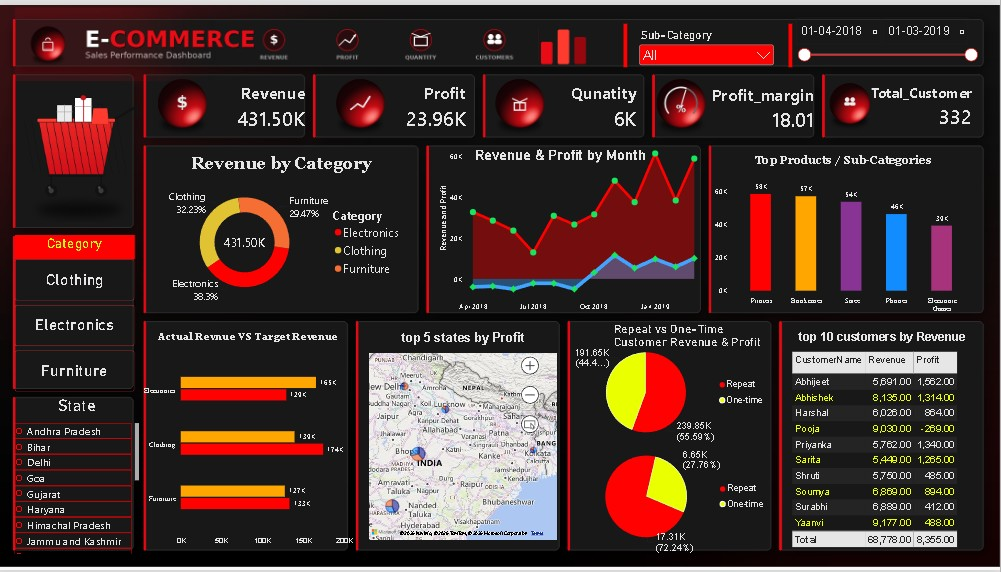

What the dashboard file says about the page in this screenshot:
{"tool":"powerbi","page":{"name":"E_Commerce","canvas":[1920,1080],"ordinal":0},"visuals":[{"type":"cardVisual","fields":{"Data":["_mesures.Revenue"]},"box":[303.7,136.3,304.6,117.3],"z":0},{"type":"pieChart","fields":{"Category":["e_commerce list_order.Customer Type"],"Y":["_measures.Revenue by Customer Type"]},"box":[1087.9,619.3,400.6,244.4],"z":0,"group":"g1"},{"type":"cardVisual","fields":{"Data":["_mesures.Profit"]},"box":[607.2,135.8,308.7,117.3],"z":1000},{"type":"pieChart","fields":{"Category":["e_commerce list_order.Customer Type"],"Y":["_measure.Profit by Customer Type"]},"box":[1088.3,815.9,401.3,250.5],"z":1000,"group":"g1"},{"type":"cardVisual","fields":{"Data":["_mesures.Qunatity"]},"box":[936.5,135.8,304.6,117.3],"z":2000},{"type":"textbox","title":"Repeat vs One-Time Customer Revenue & Profit","box":[1181.3,606.1,306.1,59.8],"z":2000,"group":"g1"},{"type":"cardVisual","fields":{"Data":["_mesures.Profit_margin"]},"box":[1259.7,140,321.1,113.2],"z":3000},{"type":"cardVisual","fields":{"Data":["_mesures.Total_Customer"]},"box":[1580.8,135.8,302.6,117.3],"z":4000},{"type":"donutChart","fields":{"Category":["e_commerce orders.Category"],"Y":["_mesures.Revenue"]},"box":[288.2,269.6,511.3,315.8],"z":5000},{"type":"areaChart","fields":{"Category":["e_commerce list_order.MonthStart"],"Y":["_mesures.Revenue","_mesures.Profit"]},"box":[829.6,226.9,550,380.4],"z":6000},{"type":"clusteredBarChart","title":"Actual Revnue VS Target Revenue","fields":{"Category":["e_commerce target_vs_actual.Category"],"Y":["Sum(e_commerce target_vs_actual.actual_revenue)","Sum(e_commerce target_vs_actual.target_revenue)"]},"box":[265.8,607.3,434,446],"z":7000},{"type":"textbox","title":"Revenue & Profit by Month","box":[916.7,270.4,391.9,77.9],"z":8000},{"type":"map","title":"top 5 states by Profit ","fields":{"Category":["e_commerce state_performance.State"],"Series":["e_commerce orders.Category"],"Size":["_mesures.Revenue"]},"box":[699,607.3,389.6,430.8],"z":9000},{"type":"clusteredColumnChart","title":"Top Products / Sub-Categories","fields":{"Category":["e_commerce orders.Sub-Category"],"Y":["_mesures.Revenue"]},"box":[1359,270.4,524.8,336.9],"z":10000},{"type":"tableEx","title":"top 10 customers by Revenue","fields":{"Values":["e_commerce list_order.CustomerName","_mesures.Revenue","_mesures.Profit"]},"box":[1505.7,607.3,378.1,472.1],"z":11000},{"type":"group","id":"g1","title":"Group 1","box":[1087.9,606.1,401.7,460.3],"z":12000},{"type":"advancedSlicerVisual","fields":{"Values":["e_commerce category_performance.Category"]},"box":[35.9,440,229.5,301.3],"z":13000},{"type":"slicer","fields":{"Values":["e_commerce list_order.MonthStart"]},"box":[1522.9,18.6,358.6,101.4],"z":14000},{"type":"listSlicer","fields":{"Values":["e_commerce list_order.State"]},"box":[19.1,734,270.2,332.4],"z":15000},{"type":"slicer","fields":{"Values":["e_commerce orders.Sub-Category"]},"box":[1210,31.4,298.6,87.1],"z":16000},{"type":"image","box":[246.3,126.7,220,126.7],"z":17000},{"type":"image","box":[600.1,126.7,193.7,126.7],"z":18000},{"type":"image","box":[891.9,126.7,220,126.7],"z":19000},{"type":"image","box":[1200.3,126.7,220,126.7],"z":20000},{"type":"image","box":[1580.5,126.7,105.2,126.7],"z":21000},{"type":"actionButton","box":[1200,35.7,7.1,82.9],"z":23000},{"type":"image","box":[0,19.1,306.1,485.4],"z":25000},{"type":"actionButton","box":[1515.7,35.7,7.1,82.9],"z":26000},{"type":"image","box":[33.5,4.8,1133.3,141.1],"z":26001}]}

Visuals, with their boxes in screenshot pixels (x1, y1, x2, y2), scaled from the page's 1920x1080 canvas onto the 1001x572 screenshot:
cardVisual - _mesures.Revenue: [158,72,317,134]
pieChart - e_commerce list_order.Customer Type x _measures.Revenue by Customer Type: [567,328,776,457]
cardVisual - _mesures.Profit: [317,72,478,134]
pieChart - e_commerce list_order.Customer Type x _measure.Profit by Customer Type: [567,432,777,565]
cardVisual - _mesures.Qunatity: [488,72,647,134]
"Repeat vs One-Time Customer Revenue & Profit" textbox: [616,321,775,353]
cardVisual - _mesures.Profit_margin: [657,74,824,134]
cardVisual - _mesures.Total_Customer: [824,72,982,134]
donutChart - e_commerce orders.Category x _mesures.Revenue: [150,143,417,310]
areaChart - e_commerce list_order.MonthStart x _mesures.Revenue: [433,120,719,322]
"Actual Revnue VS Target Revenue" clusteredBarChart: [139,322,365,558]
"Revenue & Profit by Month" textbox: [478,143,682,184]
"top 5 states by Profit " map: [364,322,568,550]
"Top Products / Sub-Categories" clusteredColumnChart: [709,143,982,322]
"top 10 customers by Revenue" tableEx: [785,322,982,571]
"Group 1" group: [567,321,777,565]
advancedSlicerVisual - e_commerce category_performance.Category: [19,233,138,393]
slicer - e_commerce list_order.MonthStart: [794,10,981,64]
listSlicer - e_commerce list_order.State: [10,389,151,565]
slicer - e_commerce orders.Sub-Category: [631,17,787,63]
image: [128,67,243,134]
image: [313,67,414,134]
image: [465,67,580,134]
image: [626,67,740,134]
image: [824,67,879,134]
actionButton: [626,19,629,63]
image: [0,10,160,267]
actionButton: [790,19,794,63]
image: [17,3,608,77]
